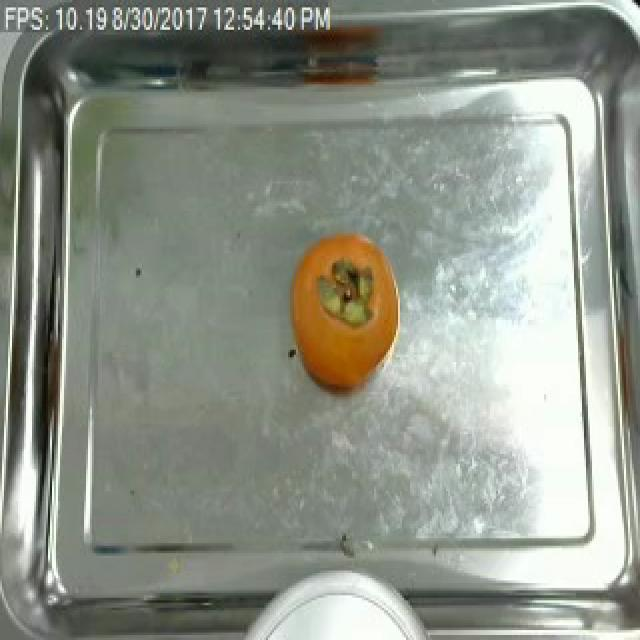Fruit: (286, 223, 404, 392)
